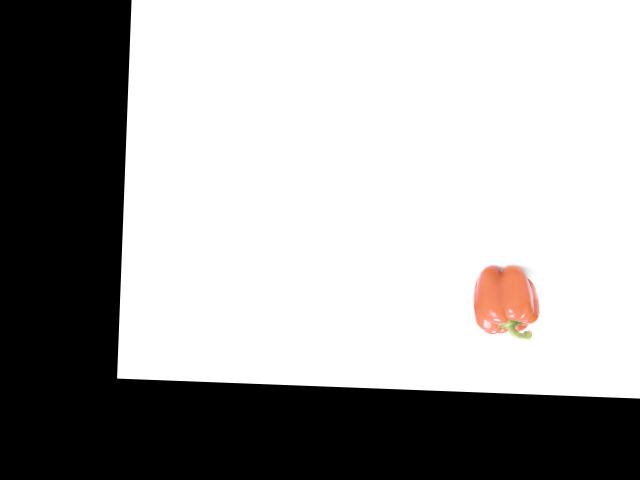bell_pepper: (470, 262, 541, 341)
